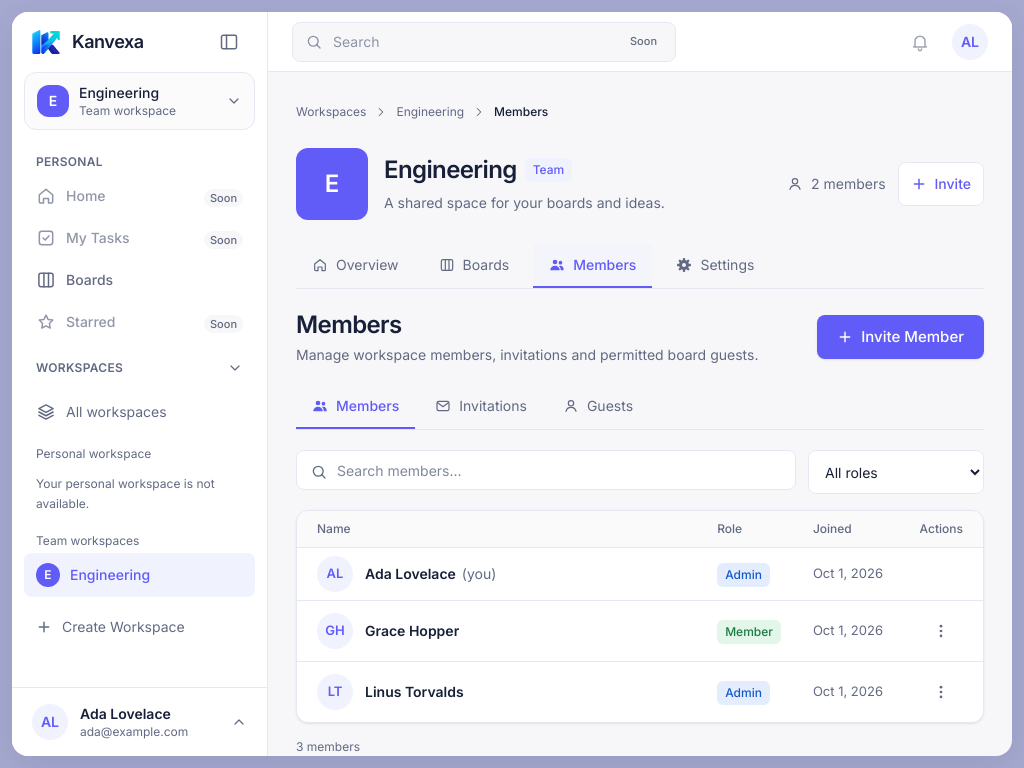
Test: Workspace Members page › refreshes a missing member without revoking readable Workspace data
Click the button named "Actions for Grace Hopper". click: (941, 631)
box: [919,609,963,653]
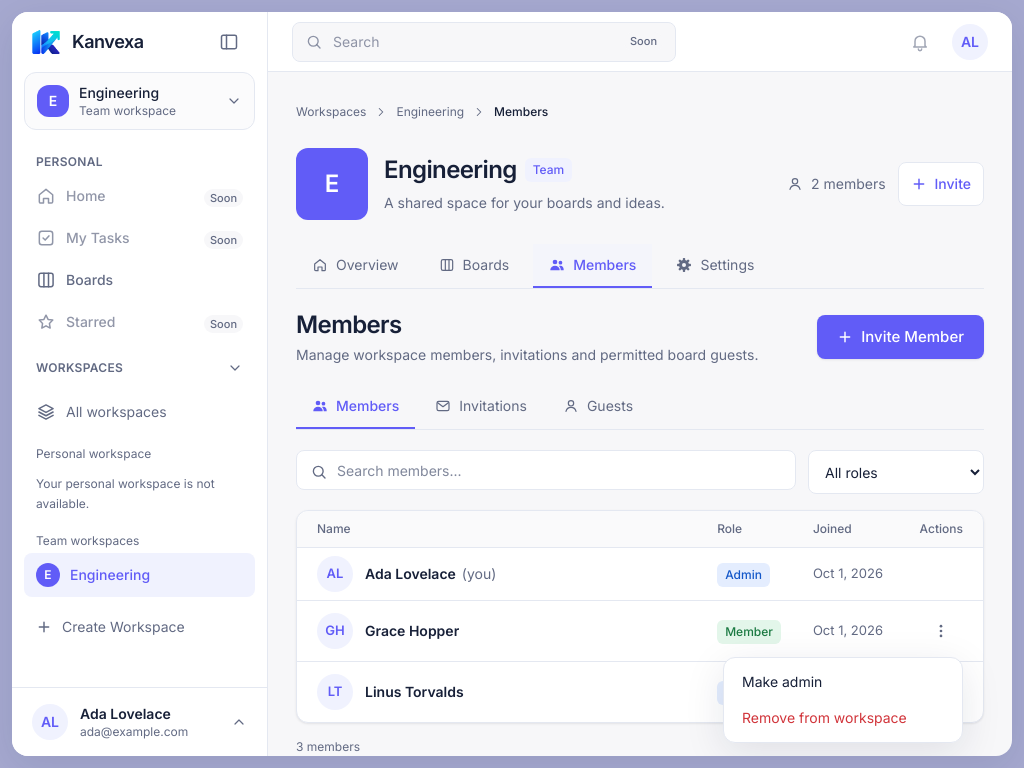
Click the button "Make admin". click: (843, 682)
box: [730,664,956,700]
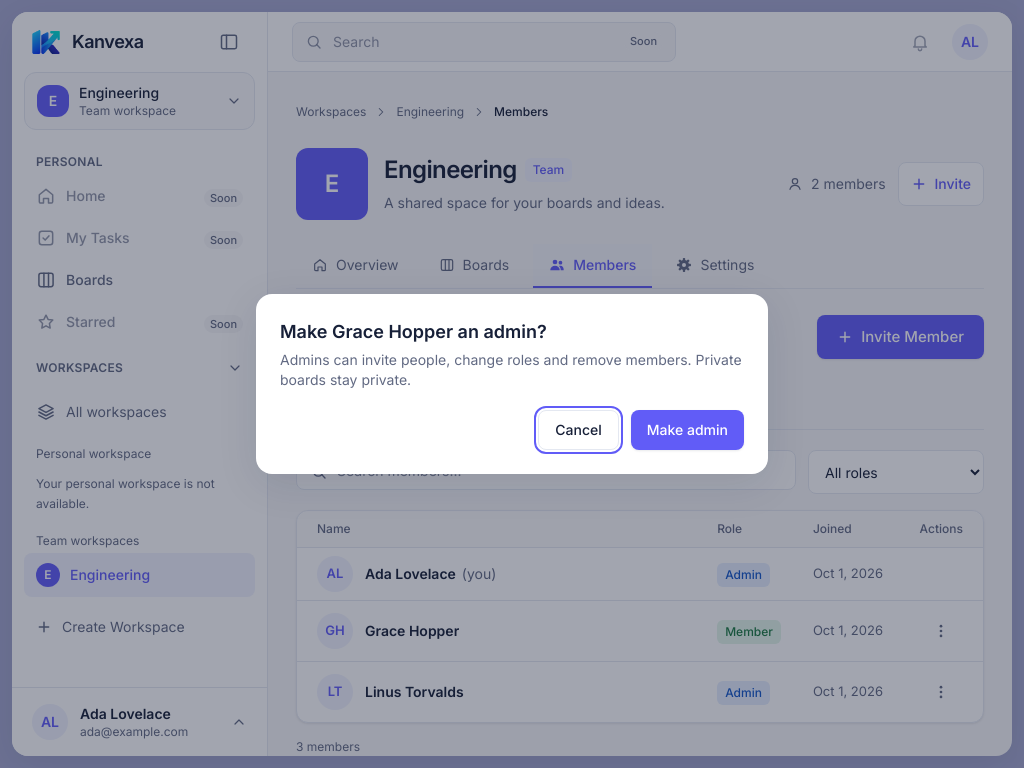
Click the button "Make admin". click: (687, 430)
box: [631,410,744,450]
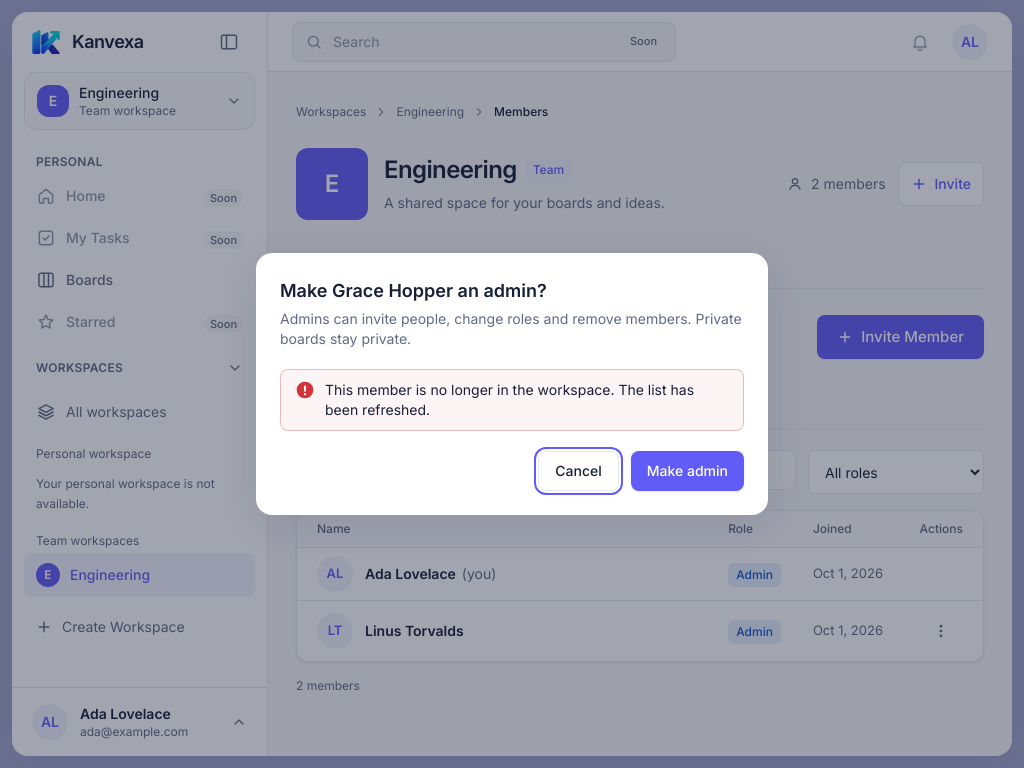
Result: the text "This member is no longer in the workspace" is shown at [325,381,694,418]
Result: the text "2 members" is shown at [296,678,360,693]
